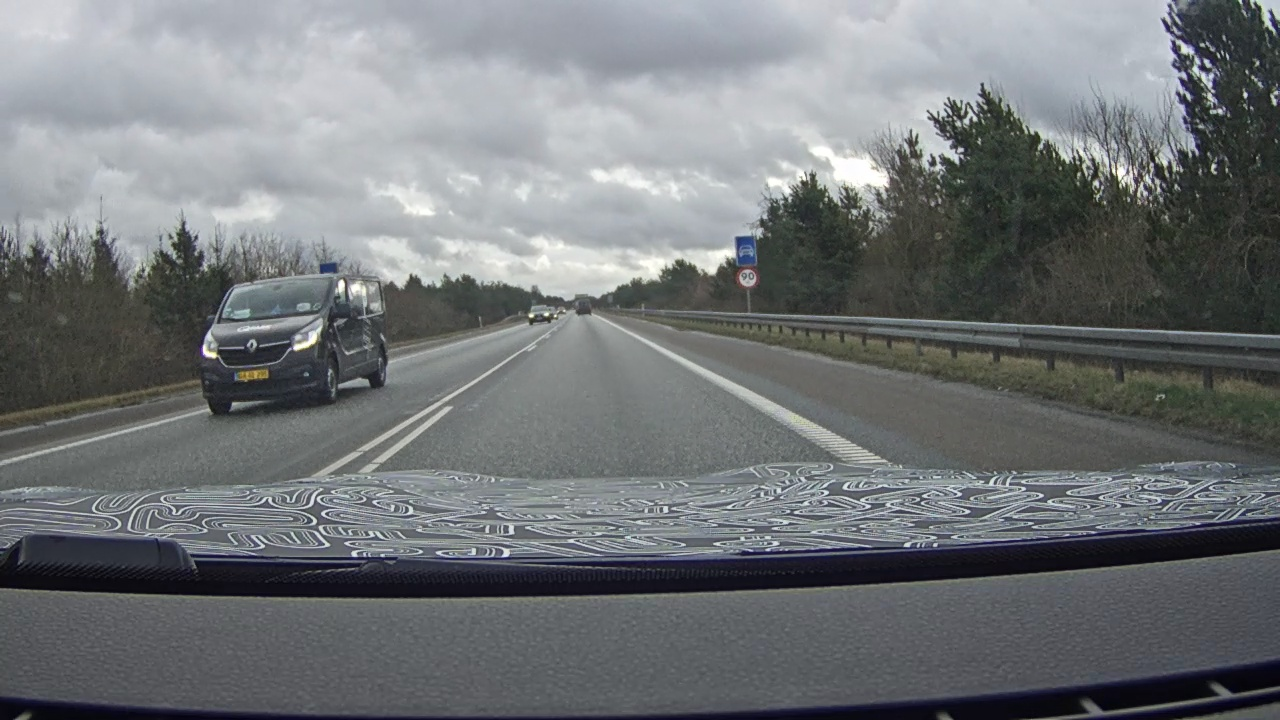Expressway_Begin: (735, 235, 757, 267)
